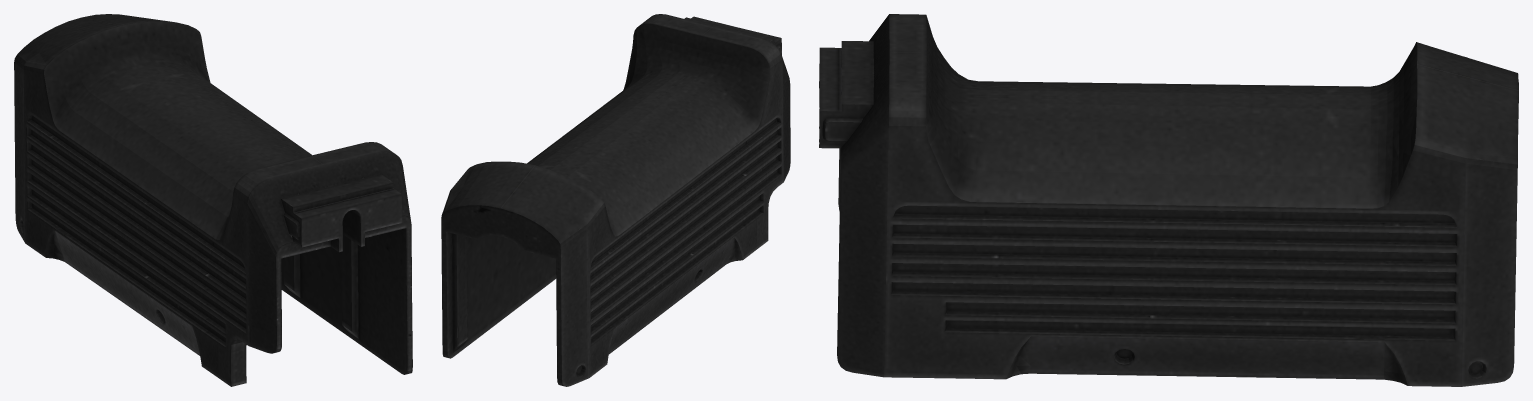
The picture shows the model from 3 angles, left to right: view 1: azimuth 30°, elevation 25°; view 2: azimuth 150°, elevation 25°; view 3: azimuth 270°, elevation 25°; orthographic projection. The views are drawn at different scales.
Visible parts, largest first — view 1: TW_674d5e287075e056160e0176_PZ_Import; view 2: TW_674d5e287075e056160e0176_PZ_Import; view 3: TW_674d5e287075e056160e0176_PZ_Import.
Part boxes in pixels (left/top/right/bottom): TW_674d5e287075e056160e0176_PZ_Import: left=14, top=14, right=412, bottom=386; TW_674d5e287075e056160e0176_PZ_Import: left=441, top=14, right=790, bottom=386; TW_674d5e287075e056160e0176_PZ_Import: left=819, top=14, right=1518, bottom=386.
Bounding box in the file's own units: 0.0318 × 0.0946 × 0.0426.
1 material, 1 textured.
